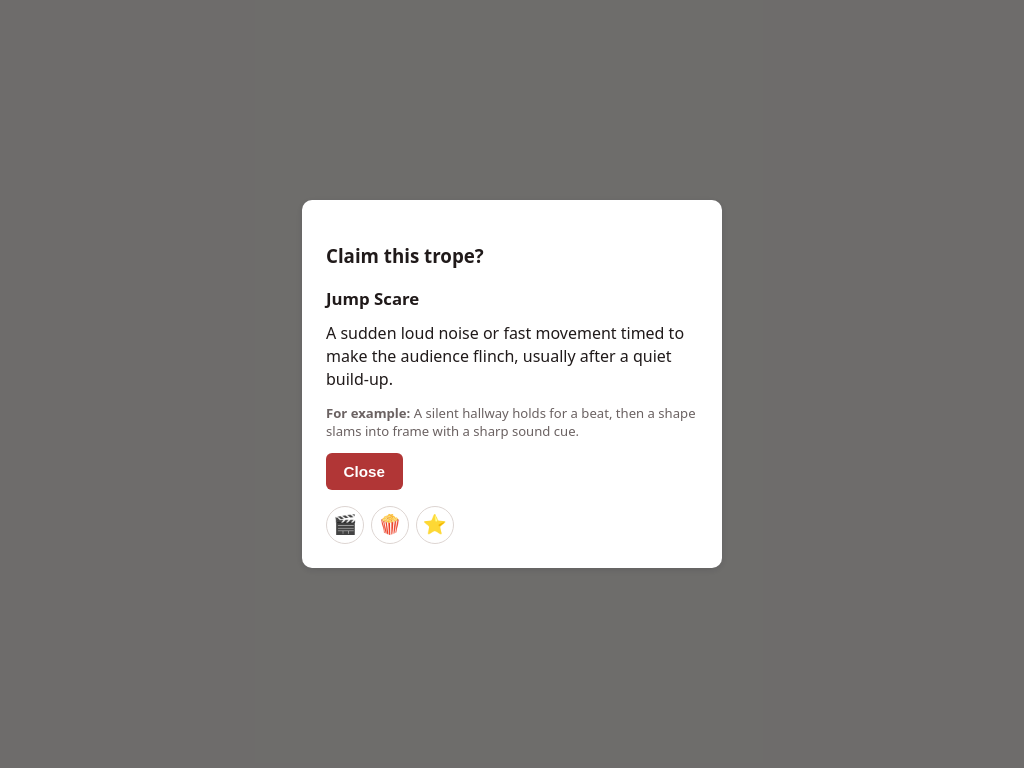
Test case: TropeInfoModal › lists every caller with their name and avatar, including callers omitted from the board preview
expect the heading "Called to happen next" is not shown: met
Click the button named "Show players calling this trope" at (390, 525), box left=371, top=506, right=409, bottom=544
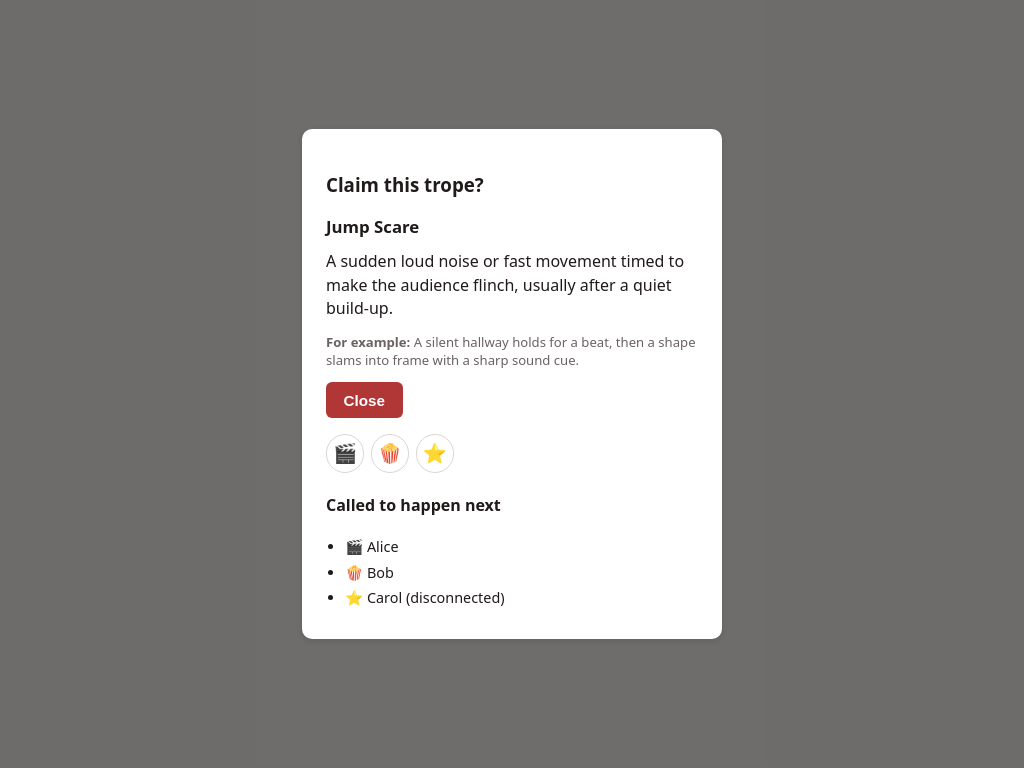
expect the heading "Called to happen next" is shown: met, box left=326, top=494, right=501, bottom=516
expect the list item "🎬 Alice" is shown: met, box left=345, top=537, right=399, bottom=556
expect the list item "🍿 Bob" is shown: met, box left=345, top=563, right=394, bottom=582
Click the button named "Show players calling this trope" at (345, 454), box left=326, top=434, right=364, bottom=473
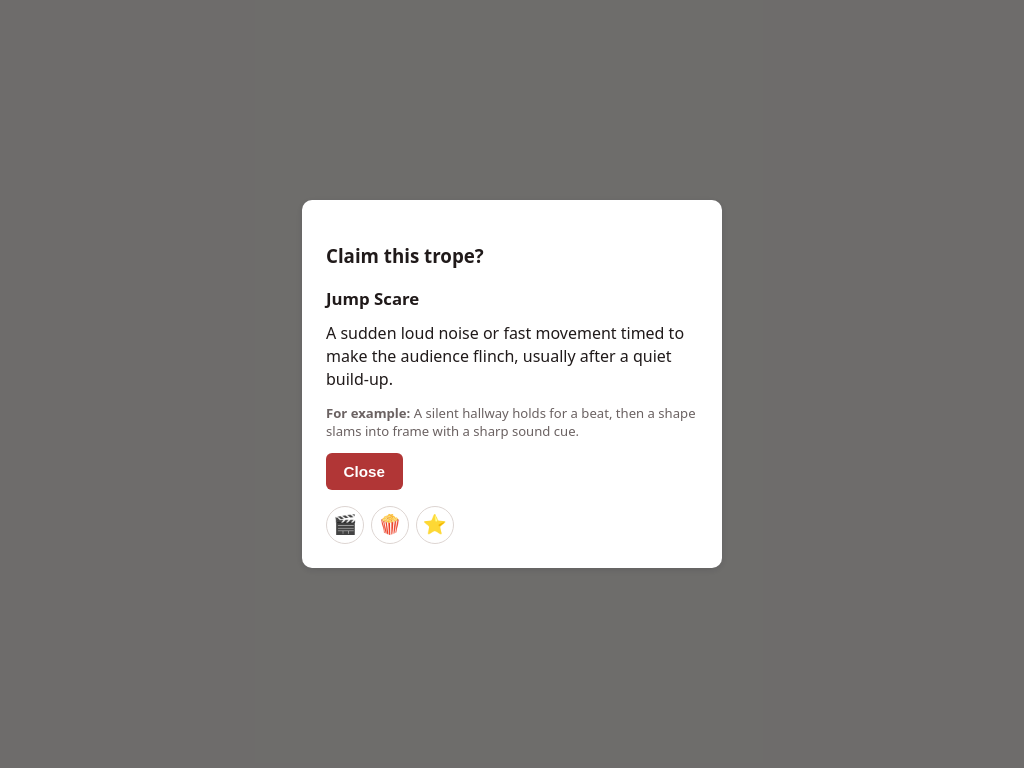
expect the heading "Called to happen next" is gone: met
